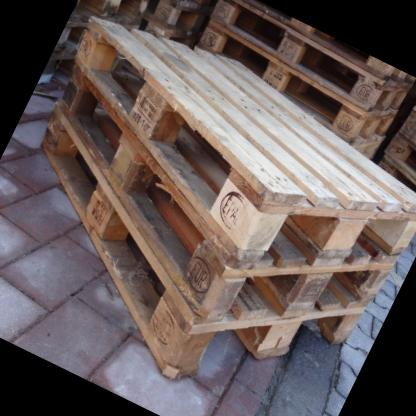BoxFace: (40, 108, 366, 388), (54, 61, 392, 322), (72, 18, 416, 258)
